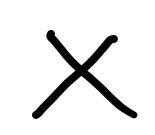mult: (33, 30, 137, 118)
